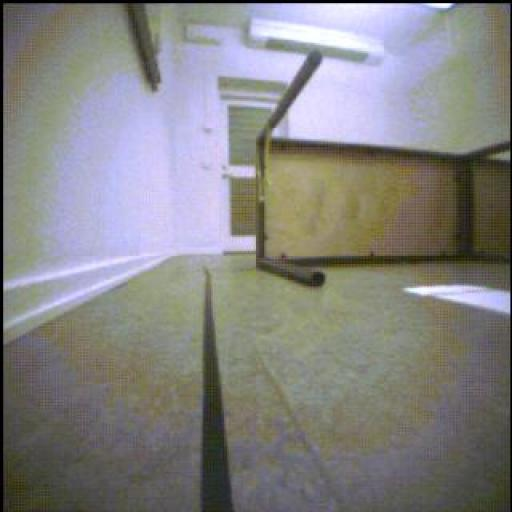Pad: (403, 281, 512, 315)
